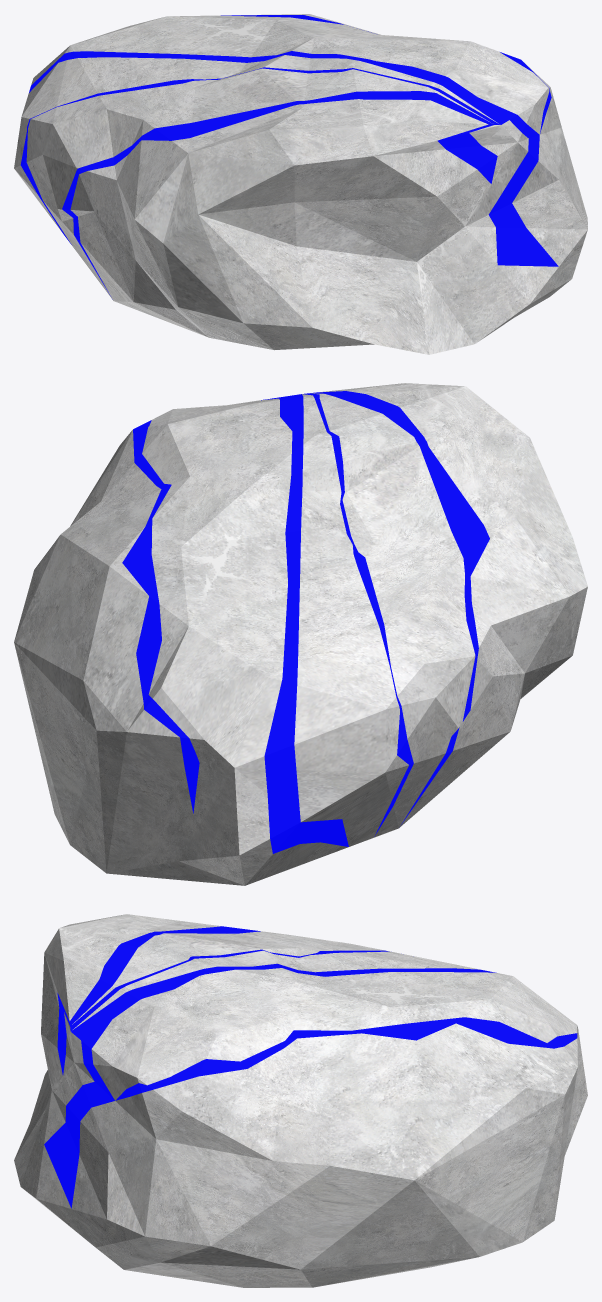
The model's file is rock.glb.
3 views of the same model, one above another, from view 1: azimuth 30°, elevation 25°; view 2: azimuth 150°, elevation 25°; view 3: azimuth 270°, elevation 25° (orthographic). The views are drawn at different scales.
Parts seen in each view (by area): view 1: rock_00_all_presentation.001; view 2: rock_00_all_presentation.001; view 3: rock_00_all_presentation.001.
Boxes of the visible parts, x1,y1,x2,y2 form: rock_00_all_presentation.001: (14,14,587,354); rock_00_all_presentation.001: (14,383,587,885); rock_00_all_presentation.001: (14,914,587,1287).
Bounding box in the file's own units: 2.22 × 1.43 × 2.61.
Materials: 2 (1 with a texture image).
